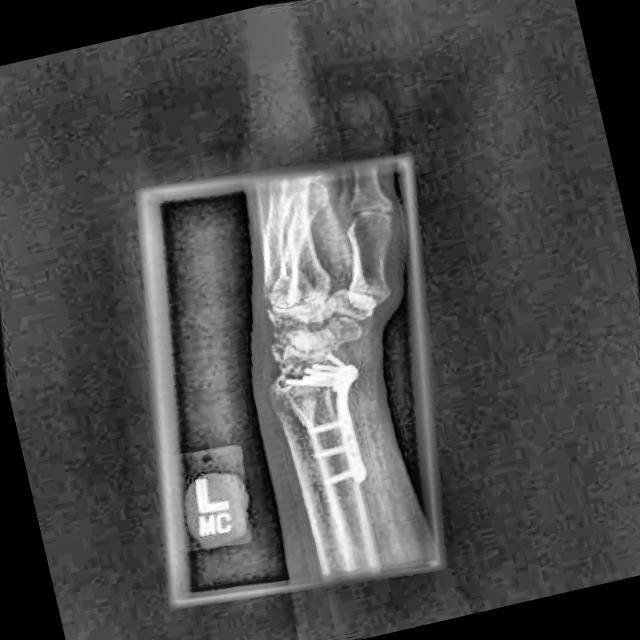fingers positive: (260, 369, 358, 442)
